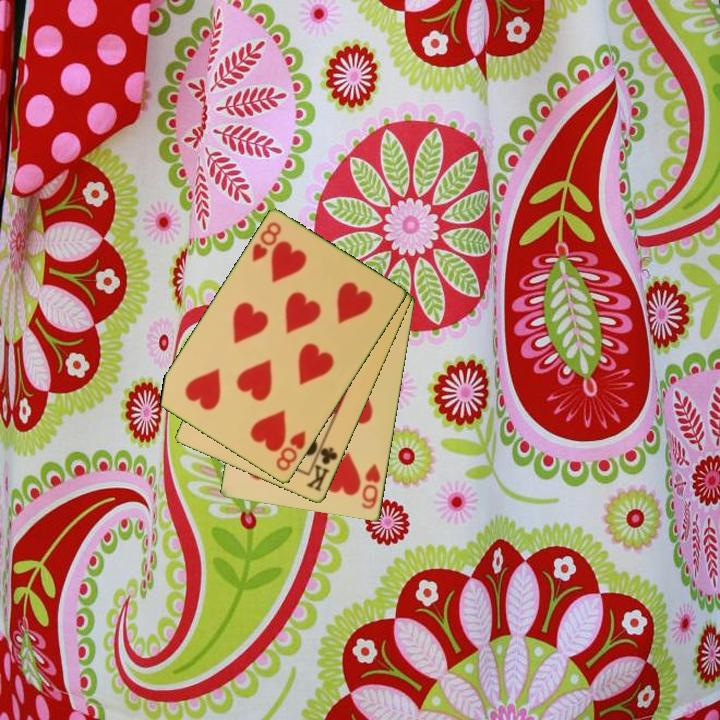6h: (358, 460, 383, 512)
8h: (272, 427, 309, 475), (248, 219, 284, 266)
Kc: (303, 438, 341, 495)
